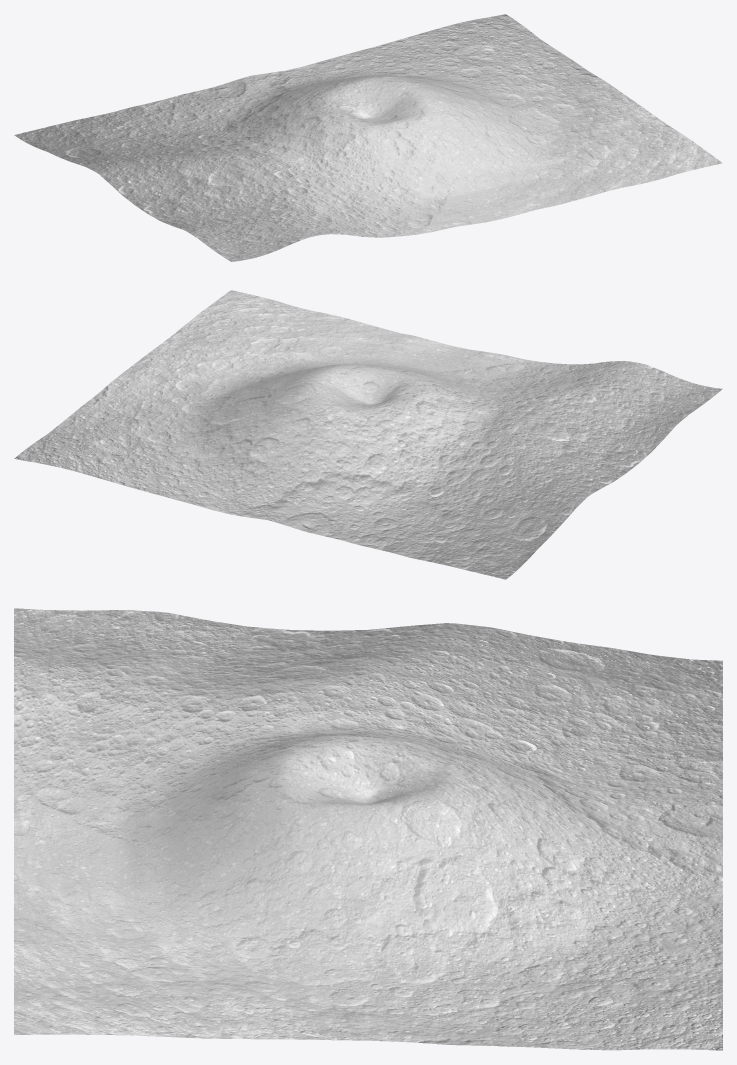
Rendered from lunar_volcanic_crater_on_the_moon_3d.glb.
The picture shows the model from 3 angles, top to bottom: view 1: azimuth 30°, elevation 25°; view 2: azimuth 150°, elevation 25°; view 3: azimuth 270°, elevation 25°; orthographic projection. The views are drawn at different scales.
Visible parts, largest first — view 1: Object_2; view 2: Object_2; view 3: Object_2.
Part boxes in pixels (x1,y1,x2,y2): Object_2: (14, 14, 722, 261); Object_2: (14, 290, 722, 579); Object_2: (14, 608, 722, 1050).
Size of the model in its own units: 2599 by 280 by 1987.
Materials: 1 (1 with a texture image).
